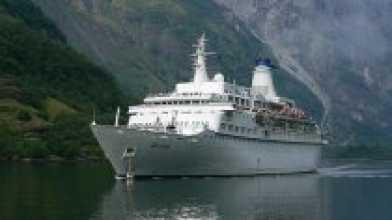youlun: (91, 31, 330, 179)
